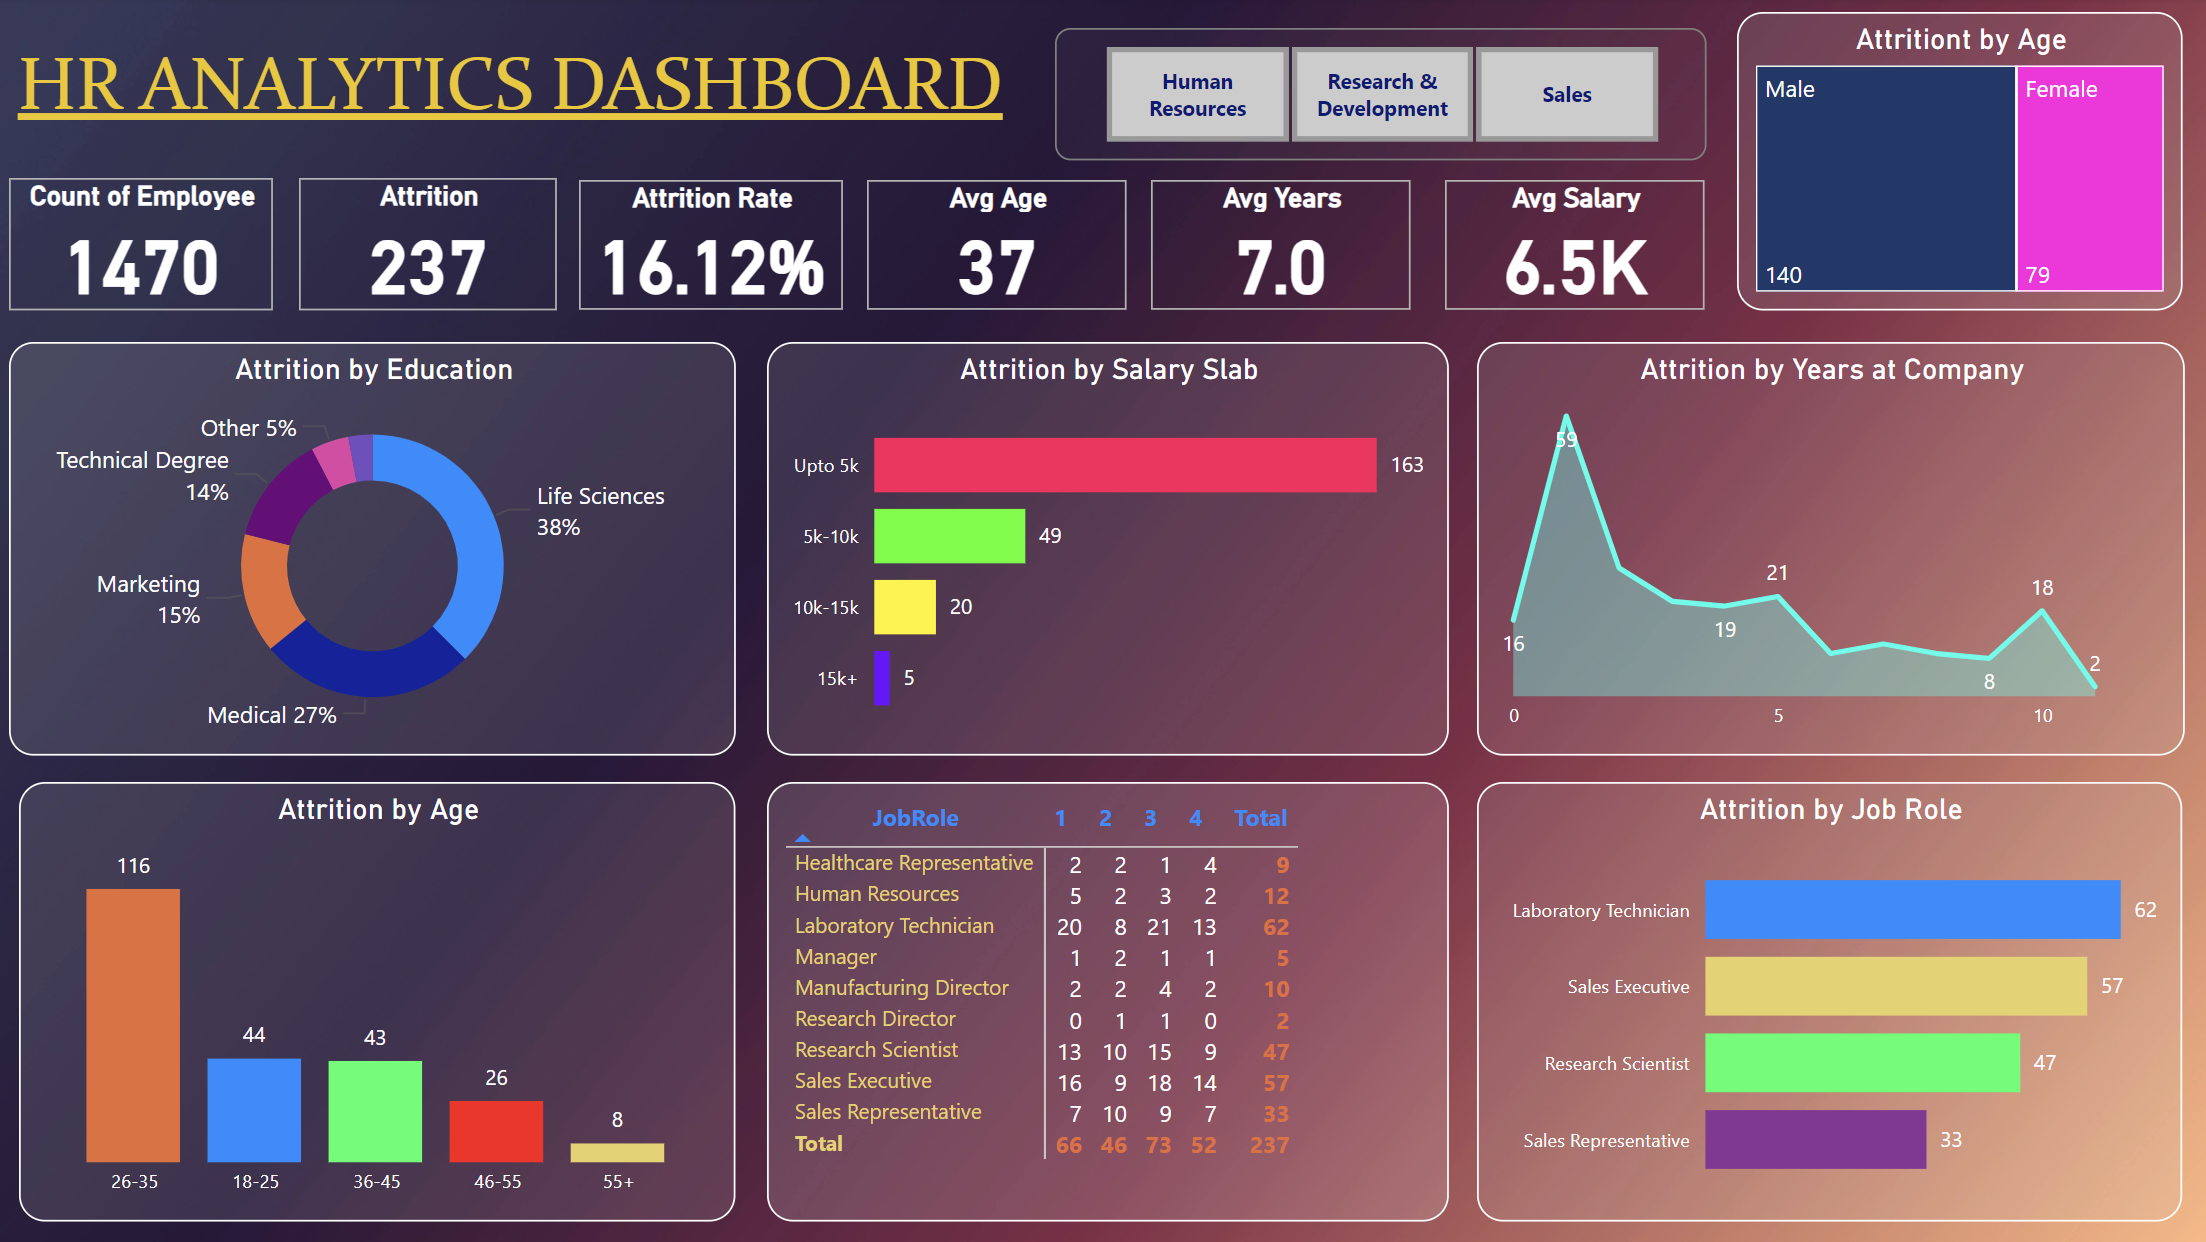

The page's visual inventory and layout, read from the dashboard file:
{"tool":"powerbi","page":{"name":"Page 1","canvas":[1280,720],"ordinal":0},"visuals":[{"type":"card","title":"Count of Employee","fields":{"Values":["CountNonNull(HR_Analytics.EmpID)"]},"box":[10,105,152.5,76.2],"z":0},{"type":"card","title":"Attrition","fields":{"Values":["Sum(HR_Analytics.AttritionCount)"]},"box":[177.5,105,148.8,76.2],"z":1000},{"type":"card","title":"Attrition Rate","fields":{"Values":["HR_Analytics.AttritionRate"]},"box":[340,106.2,152.5,75],"z":2000},{"type":"card","title":"Avg Age","fields":{"Values":["Avg(HR_Analytics.Age)"]},"box":[506.2,106.2,150,75],"z":3000},{"type":"card","title":"Avg Years","fields":{"Values":["Avg(HR_Analytics.YearsAtCompany)"]},"box":[670,106.2,150,75],"z":4000},{"type":"card","title":"Avg Salary","fields":{"Values":["Avg(HR_Analytics.MonthlyIncome)"]},"box":[840,106.2,150,75],"z":5000},{"type":"donutChart","title":"Attrition by Education","fields":{"Category":["HR_Analytics.EducationField"],"Y":["Sum(HR_Analytics.AttritionCount)"]},"box":[10,200,420,238.8],"z":6000},{"type":"columnChart","title":"Attrition by Age","fields":{"Category":["HR_Analytics.AgeGroup"],"Y":["Sum(HR_Analytics.AttritionCount)"]},"box":[16.2,453.8,413.8,253.8],"z":7000},{"type":"pivotTable","fields":{"Values":["Sum(HR_Analytics.AttritionCount)"],"Rows":["HR_Analytics.JobRole"],"Columns":["HR_Analytics.JobSatisfaction"]},"box":[448.8,453.8,393.8,253.8],"z":8000},{"type":"clusteredBarChart","title":"Attrition by Salary Slab","fields":{"Category":["HR_Analytics.SalarySlab"],"Y":["Sum(HR_Analytics.AttritionCount)"]},"box":[448.8,200,393.8,238.8],"z":9000},{"type":"barChart","title":"Attrition by Job Role","fields":{"Y":["Sum(HR_Analytics.AttritionCount)"],"Category":["HR_Analytics.JobRole"]},"box":[858.8,453.8,407.5,253.8],"z":10000},{"type":"areaChart","title":"Attrition by Years at Company","fields":{"Category":["HR_Analytics.YearsAtCompany"],"Y":["Sum(HR_Analytics.AttritionCount)"]},"box":[858.8,200,408.8,238.8],"z":11000},{"type":"treemap","title":"Attritiont by Age","fields":{"Group":["HR_Analytics.Gender"],"Values":["Sum(HR_Analytics.AttritionCount)"]},"box":[1008.8,8.8,257.5,172.5],"z":12000},{"type":"slicer","fields":{"Values":["HR_Analytics.Department"]},"box":[615,18.8,376.2,76.2],"z":13000},{"type":"textbox","box":[10.4,19.6,589.4,76.3],"z":14000}]}

Visuals, with their boxes in screenshot pixels (x1, y1, x2, y2), scaled from the page's 1280x720 canvas onto the 2206x1242 screenshot:
"Count of Employee" card: box(17, 181, 280, 313)
"Attrition" card: box(306, 181, 562, 313)
"Attrition Rate" card: box(586, 183, 849, 313)
"Avg Age" card: box(872, 183, 1131, 313)
"Avg Years" card: box(1155, 183, 1413, 313)
"Avg Salary" card: box(1448, 183, 1706, 313)
"Attrition by Education" donutChart: box(17, 345, 741, 757)
"Attrition by Age" columnChart: box(28, 783, 741, 1221)
pivotTable - Sum(HR_Analytics.AttritionCount) x HR_Analytics.JobRole: box(773, 783, 1452, 1221)
"Attrition by Salary Slab" clusteredBarChart: box(773, 345, 1452, 757)
"Attrition by Job Role" barChart: box(1480, 783, 2182, 1221)
"Attrition by Years at Company" areaChart: box(1480, 345, 2185, 757)
"Attritiont by Age" treemap: box(1739, 15, 2182, 313)
slicer - HR_Analytics.Department: box(1060, 32, 1708, 164)
textbox: box(18, 34, 1034, 165)
